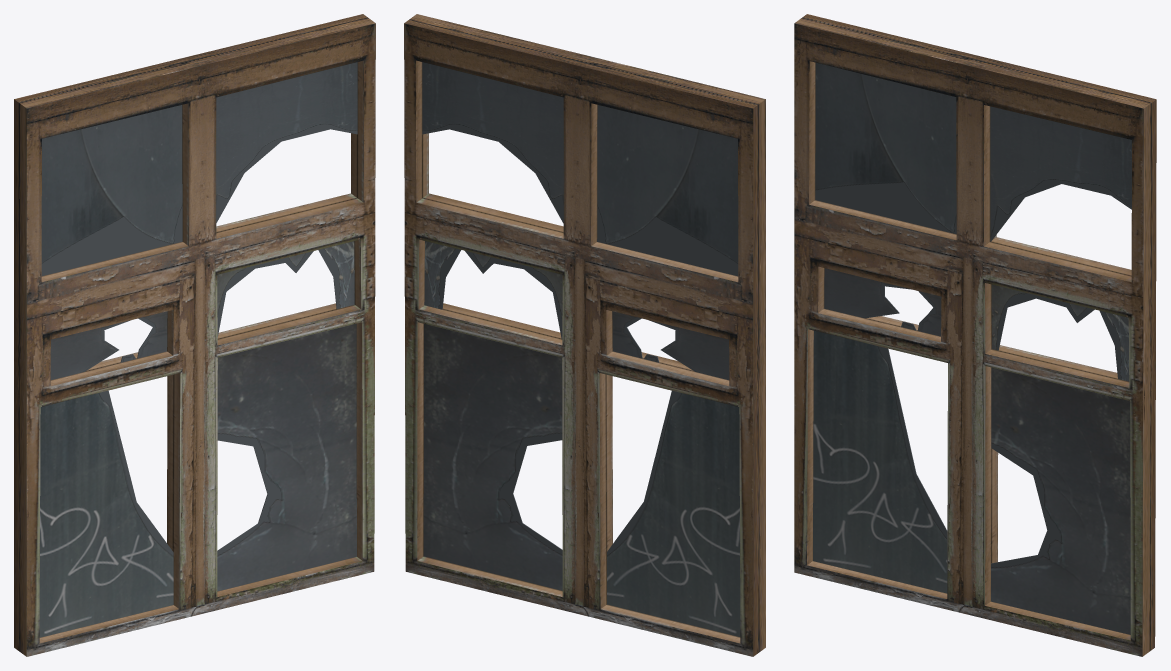
File: Windows_09_2.FBX
The picture shows the model from 3 angles, left to right: view 1: azimuth 30°, elevation 25°; view 2: azimuth 150°, elevation 25°; view 3: azimuth 330°, elevation 25°; orthographic projection.
Visible parts, largest first — view 1: Windows_09_2, Windows_09_2glass (×6); view 2: Windows_09_2, Windows_09_2glass (×6); view 3: Windows_09_2, Windows_09_2glass (×6).
Part boxes in pixels (bbox=[...]): Windows_09_2: bbox=[14, 14, 375, 656]; Windows_09_2glass (×6): bbox=[39, 62, 357, 637]; Windows_09_2: bbox=[404, 14, 765, 656]; Windows_09_2glass (×6): bbox=[422, 62, 740, 636]; Windows_09_2: bbox=[794, 14, 1156, 656]; Windows_09_2glass (×6): bbox=[813, 62, 1131, 634].
Bounding box in the file's own units: 95.93 × 6.07 × 144.
2 materials, 2 textured.
